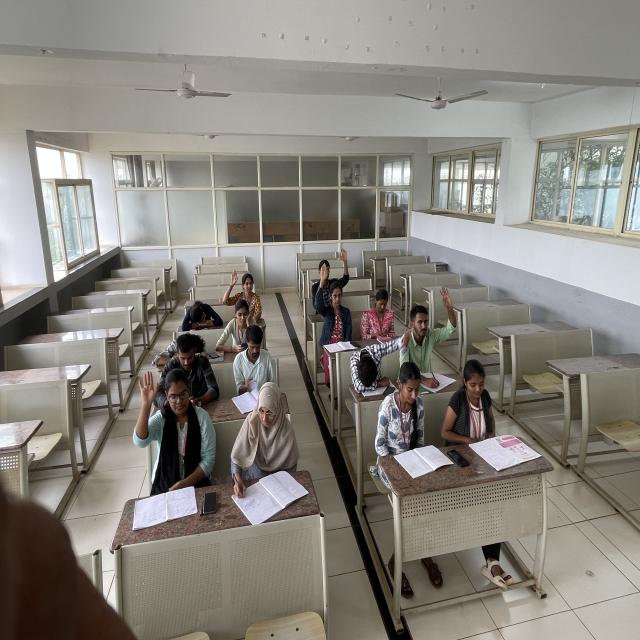Hand Rising: (134, 368, 216, 484), (402, 284, 458, 362), (314, 263, 352, 343), (222, 268, 263, 316), (312, 248, 350, 289)
Reading: (376, 362, 431, 469), (445, 357, 498, 462), (229, 323, 274, 402)
Sleeping: (344, 342, 393, 395), (180, 298, 223, 330)
Using Phone: (170, 332, 216, 404), (215, 298, 252, 359), (360, 288, 398, 342)
Writing: (231, 383, 298, 511)
